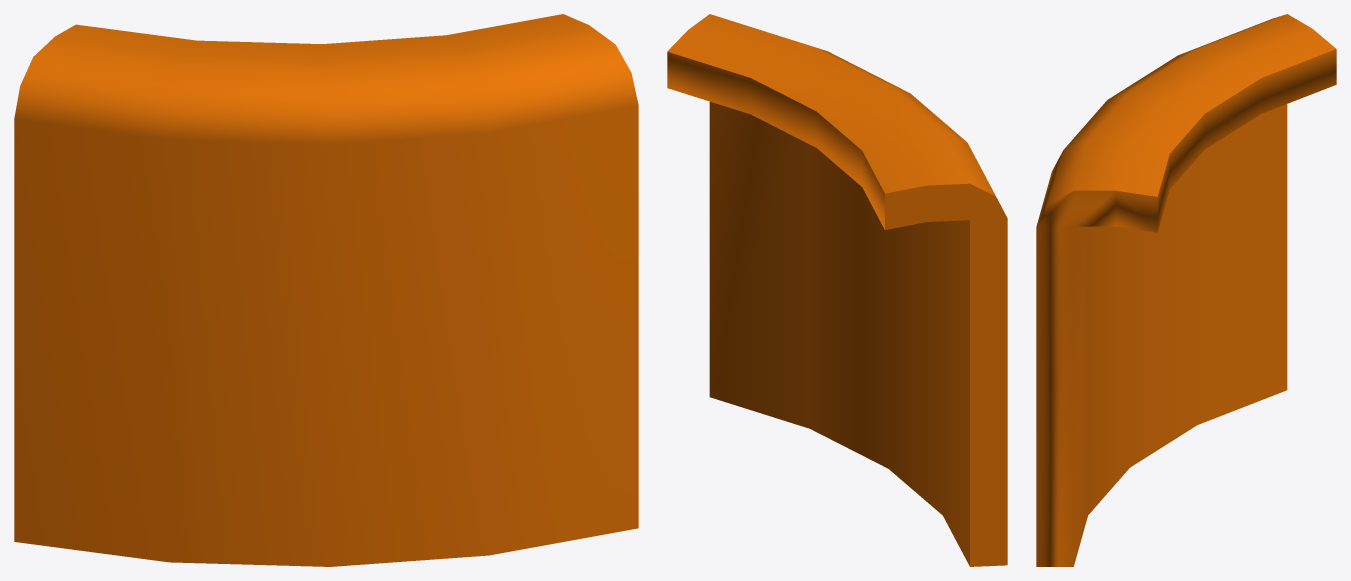
File: Plastic_Pipe_F_Right.fbx
3 views of the same model, side by side, from view 1: azimuth 30°, elevation 25°; view 2: azimuth 150°, elevation 25°; view 3: azimuth 270°, elevation 25° (orthographic). The views are drawn at different scales.
Visible parts, largest first — view 1: Plastic_Pipe_F_Right; view 2: Plastic_Pipe_F_Right; view 3: Plastic_Pipe_F_Right.
Part boxes in pixels (bbox=[...]): Plastic_Pipe_F_Right: bbox=[14, 14, 638, 566]; Plastic_Pipe_F_Right: bbox=[667, 14, 1007, 566]; Plastic_Pipe_F_Right: bbox=[1036, 14, 1336, 566].
Bounding box in the file's own units: 2.67 × 2.47 × 1.78.
